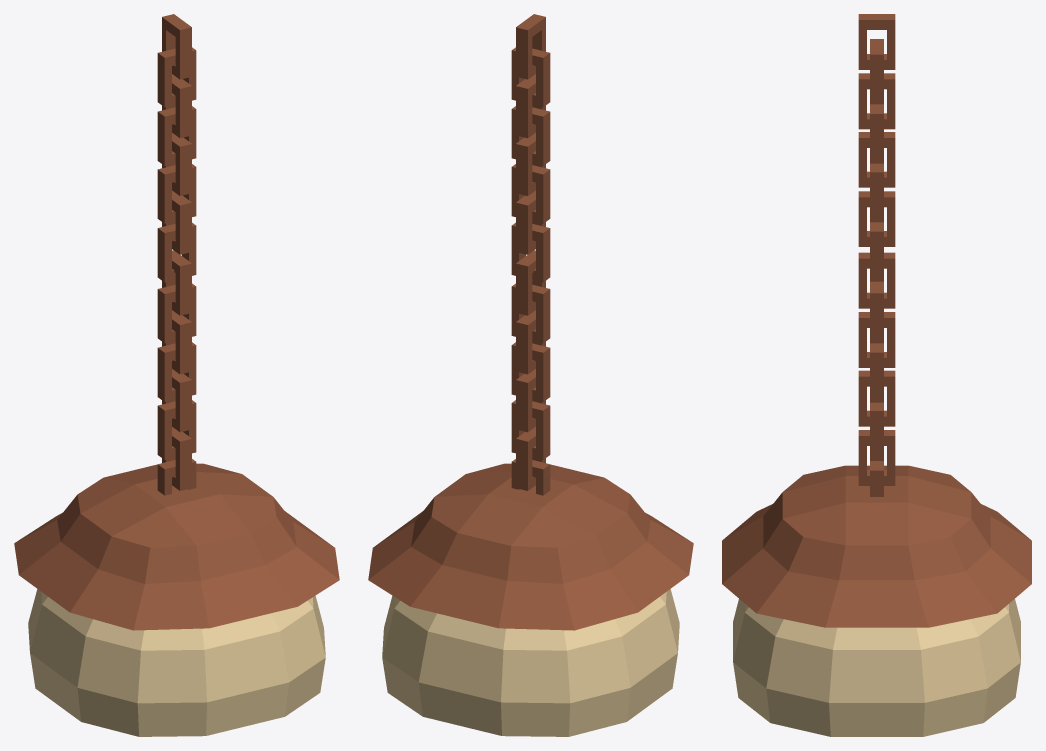
Rendered from laelampp.fbx.
3 views of the same model, side by side, from view 1: azimuth 30°, elevation 25°; view 2: azimuth 150°, elevation 25°; view 3: azimuth 270°, elevation 25° (orthographic).
Parts seen in each view (by area): view 1: Cube.004; view 2: Cube.004; view 3: Cube.004.
Boxes of the visible parts, box(x1,y1,x2,y2) form: Cube.004: box(14, 14, 339, 736); Cube.004: box(368, 14, 693, 736); Cube.004: box(722, 14, 1031, 736).
Bounding box in the file's own units: 80.94 × 191 × 80.94.
